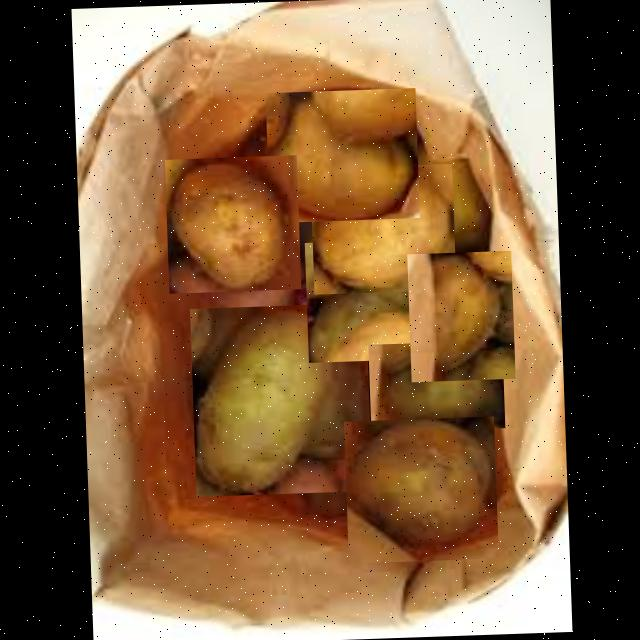Defected potato: (188, 303, 370, 497), (304, 238, 436, 362), (367, 340, 504, 432)
Potato: (342, 416, 498, 563), (264, 88, 418, 222), (163, 154, 300, 294), (309, 163, 455, 294), (406, 250, 514, 382)
